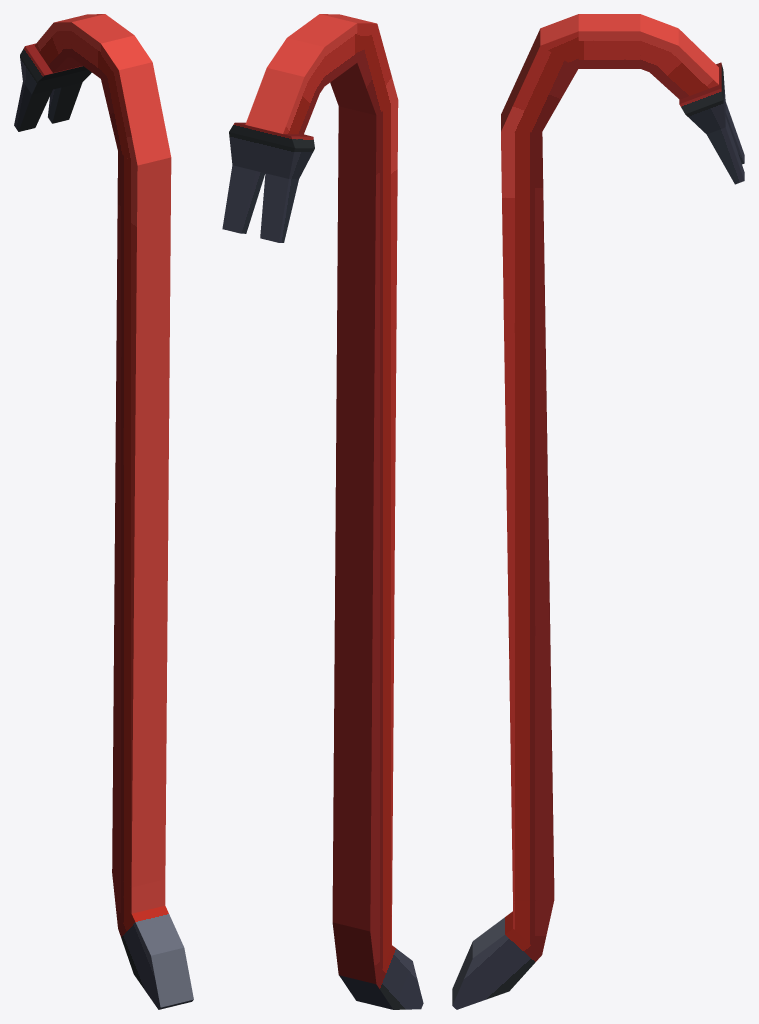
Rendered from crowbar.gltf.
3 renders of one model, left to right at view 1: azimuth 30°, elevation 25°; view 2: azimuth 150°, elevation 25°; view 3: azimuth 270°, elevation 25°, orthographic. The views are drawn at different scales.
Visible parts, largest first — view 1: cube (×10); view 2: cube (×10); view 3: cube (×9).
Part boxes in pixels (box(x1,y1,x2,y2)): cube (×10): box(14, 14, 193, 1009); cube (×10): box(222, 14, 423, 1009); cube (×9): box(452, 14, 744, 1009).
Size of the model in its own units: 0.2188 by 3.27 by 0.8848.
Materials: 1 (1 with a texture image).
